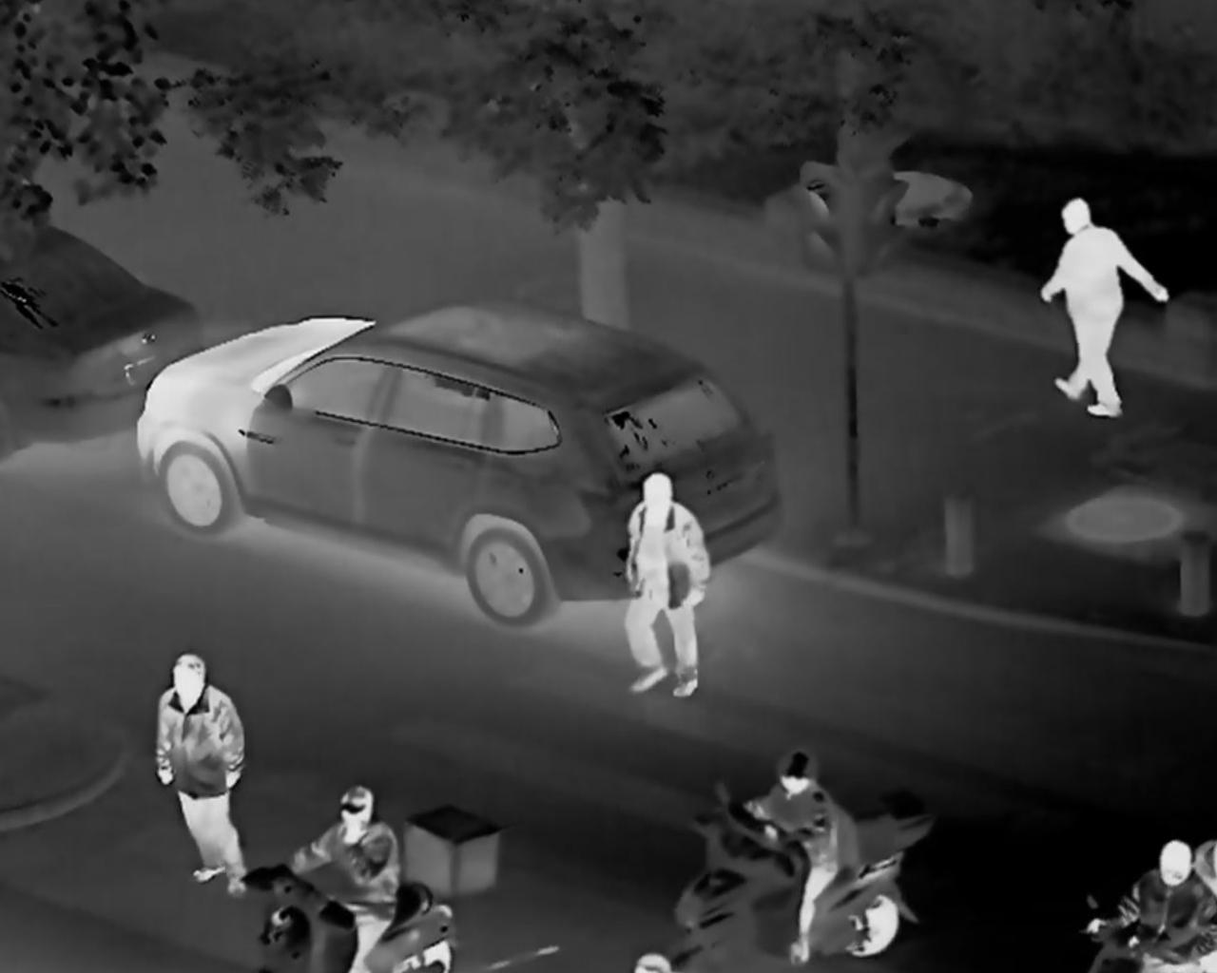person: (133, 641, 257, 883), (620, 449, 740, 697), (1042, 182, 1162, 407), (749, 751, 873, 958), (302, 792, 410, 973), (1130, 837, 1198, 973)
